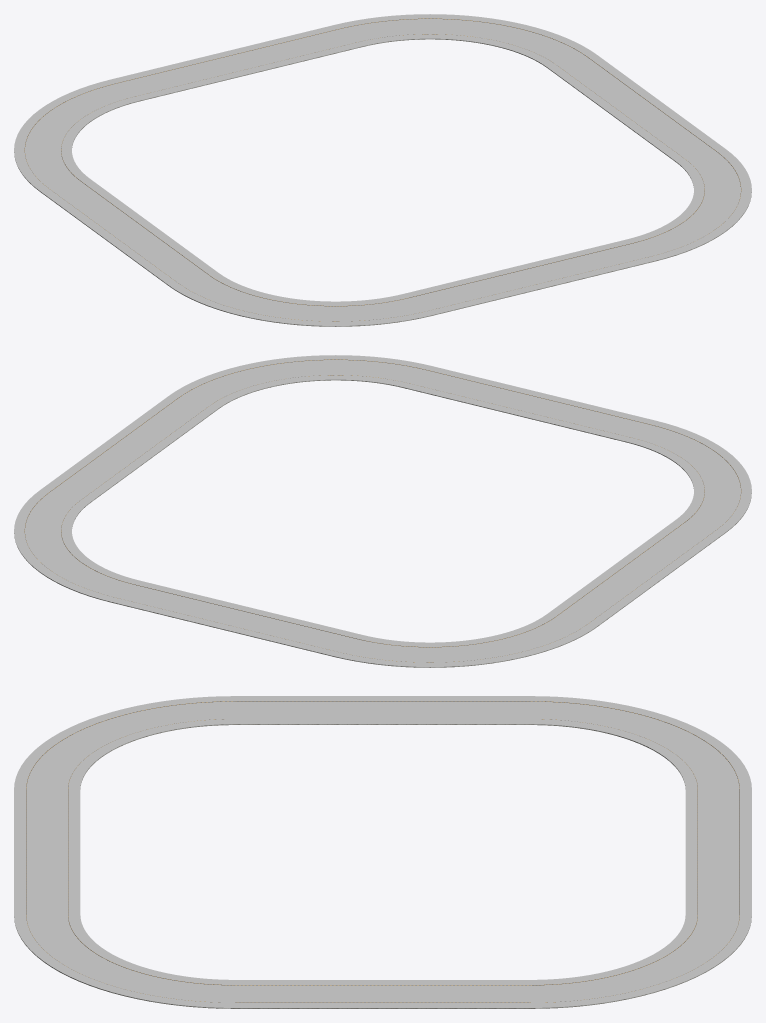
The model's file is Big_Road.FBX.
3 views of the same model, one above another, from view 1: azimuth 30°, elevation 25°; view 2: azimuth 150°, elevation 25°; view 3: azimuth 270°, elevation 25° (orthographic). The views are drawn at different scales.
Parts seen in each view (by area): view 1: Big_Road_2, Big_Road_1, Big_Road_5, Big_Road_6, Big_Road_3, Big_Road_7, Big_Road_8, Big_Road_4; view 2: Big_Road_4, Big_Road_5, Big_Road_1, Big_Road_8, Big_Road_3, Big_Road_7, Big_Road_6, Big_Road_2; view 3: Big_Road_6, Big_Road_8, Big_Road_4, Big_Road_2, Big_Road_7, Big_Road_3, Big_Road_5, Big_Road_1.
Part boxes in pixels (bbox=[...]): Big_Road_2: bbox=[168, 273, 432, 326]; Big_Road_1: bbox=[404, 239, 655, 315]; Big_Road_5: bbox=[111, 25, 362, 101]; Big_Road_6: bbox=[334, 14, 596, 67]; Big_Road_3: bbox=[40, 179, 218, 285]; Big_Road_7: bbox=[547, 55, 725, 161]; Big_Road_8: bbox=[627, 149, 751, 261]; Big_Road_4: bbox=[14, 79, 139, 191]; Big_Road_4: bbox=[333, 614, 597, 667]; Big_Road_5: bbox=[110, 580, 361, 656]; Big_Road_1: bbox=[403, 366, 654, 442]; Big_Road_8: bbox=[169, 355, 431, 408]; Big_Road_3: bbox=[547, 520, 725, 626]; Big_Road_7: bbox=[40, 396, 218, 502]; Big_Road_6: bbox=[14, 490, 138, 602]; Big_Road_2: bbox=[626, 420, 751, 532]; Big_Road_6: bbox=[530, 914, 751, 1008]; Big_Road_8: bbox=[14, 914, 235, 1008]; Big_Road_4: bbox=[530, 696, 751, 789]; Big_Road_2: bbox=[14, 696, 235, 789]; Big_Road_7: bbox=[235, 980, 530, 1008]; Big_Road_3: bbox=[235, 696, 530, 724]; Big_Road_5: bbox=[685, 789, 751, 914]; Big_Road_1: bbox=[14, 789, 80, 914].
Size of the model in its own units: 338 by 0.4571 by 338.
